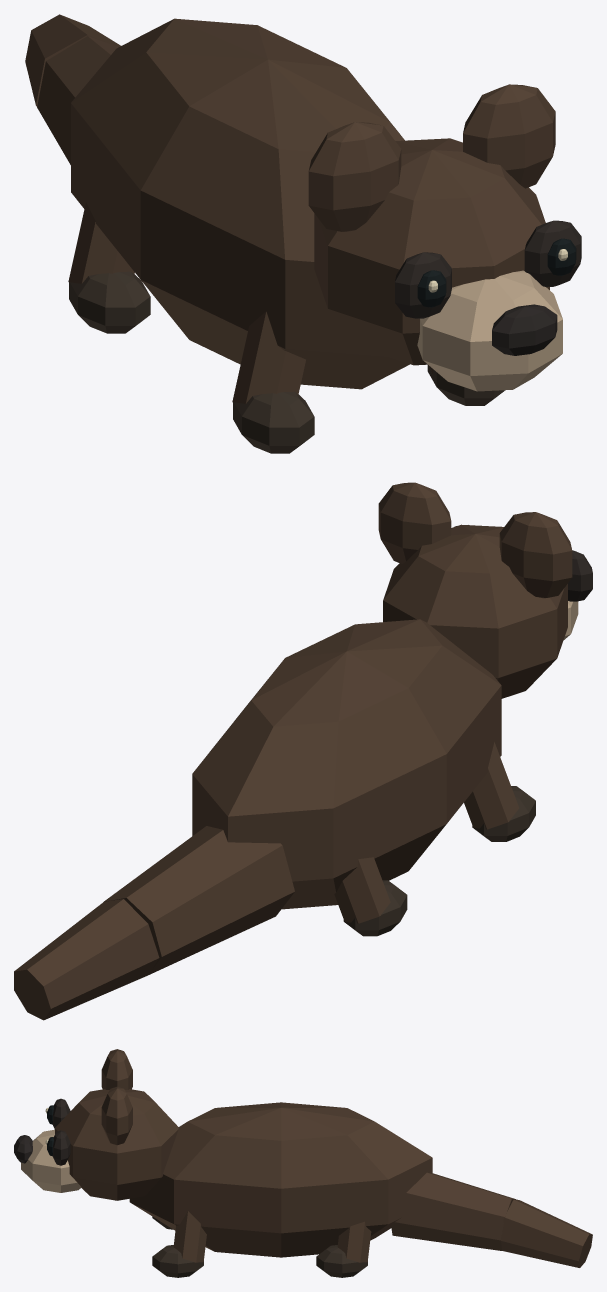
The model's file is fauna-river_otter.glb.
The picture shows the model from 3 angles, top to bottom: view 1: azimuth 30°, elevation 25°; view 2: azimuth 150°, elevation 25°; view 3: azimuth 270°, elevation 25°; orthographic projection. The views are drawn at different scales.
Visible parts, largest first — view 1: Fauna_river_otter; view 2: Fauna_river_otter; view 3: Fauna_river_otter.
Part boxes in pixels (bbox=[...]): Fauna_river_otter: bbox=[25, 14, 581, 453]; Fauna_river_otter: bbox=[14, 482, 592, 1020]; Fauna_river_otter: bbox=[14, 1049, 592, 1277].
Size of the model in its own units: 0.6371 by 0.86 by 2.47.
